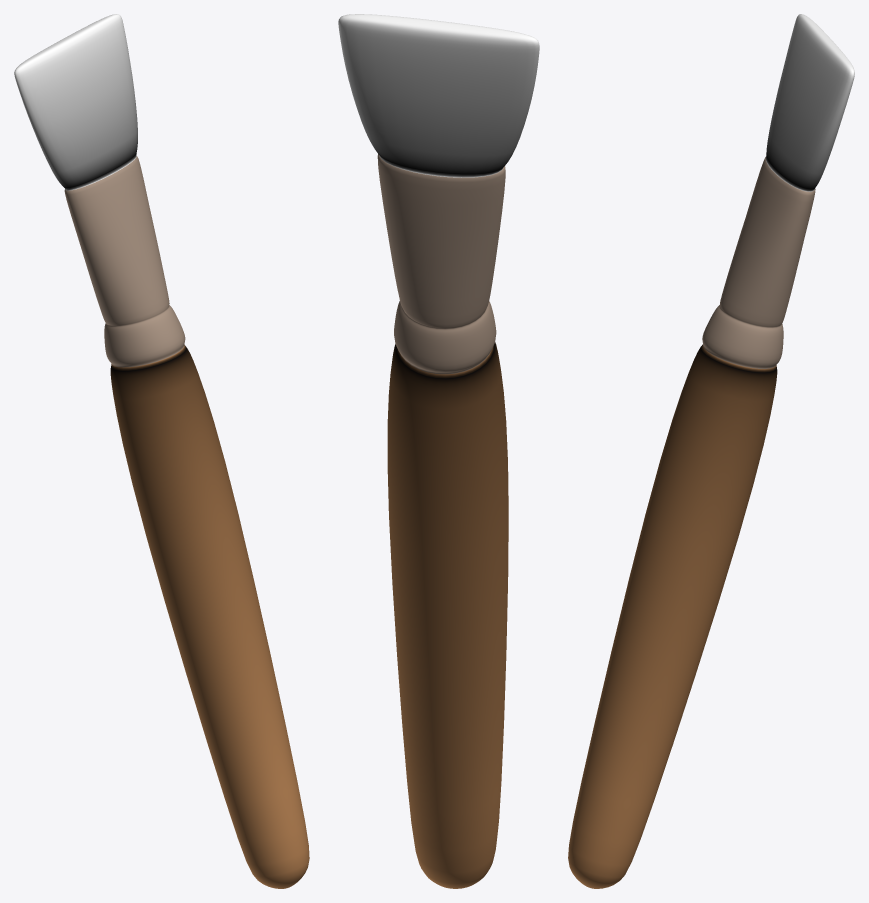
File: Brush02.fbx
3 renders of one model, left to right at view 1: azimuth 30°, elevation 25°; view 2: azimuth 150°, elevation 25°; view 3: azimuth 270°, elevation 25°, orthographic. The views are drawn at different scales.
Visible parts, largest first — view 1: Art Supplies - Brushes.004, Art Supplies - Brushes.003; view 2: Art Supplies - Brushes.004, Art Supplies - Brushes.003; view 3: Art Supplies - Brushes.004, Art Supplies - Brushes.003.
Boxes of the visible parts, <box> form: Art Supplies - Brushes.004: <box>64,156,309,888</box>; Art Supplies - Brushes.003: <box>14,14,137,190</box>; Art Supplies - Brushes.004: <box>377,154,508,888</box>; Art Supplies - Brushes.003: <box>338,14,539,177</box>; Art Supplies - Brushes.004: <box>568,157,815,888</box>; Art Supplies - Brushes.003: <box>765,14,854,191</box>.
Size of the model in its own units: 5.07 by 19.99 by 6.5.
